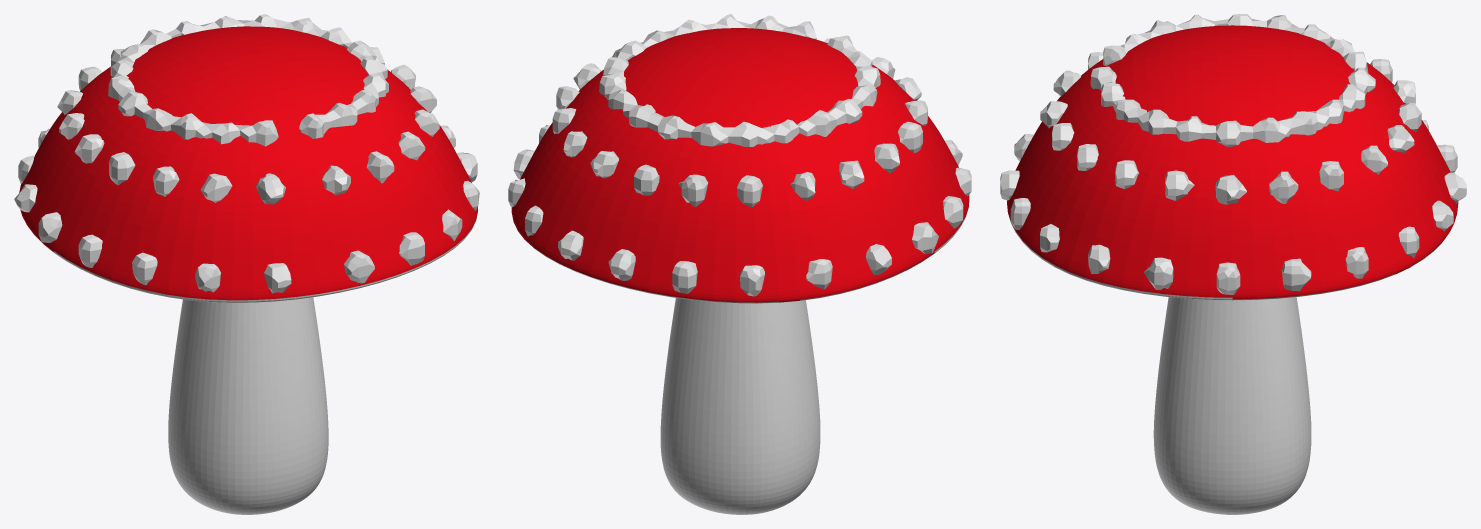
Rendered from gib.fbx.
3 views of the same model, side by side, from view 1: azimuth 30°, elevation 25°; view 2: azimuth 150°, elevation 25°; view 3: azimuth 270°, elevation 25° (orthographic).
Visible parts, largest first — view 1: Cube, Sphere.002; view 2: Cube, Sphere.002; view 3: Cube, Sphere.002.
Part boxes in pixels (x1=…): Cube: x1=19, y1=26, x2=477, y2=514; Sphere.002: x1=14, y1=14, x2=479, y2=293; Cube: x1=511, y1=28, x2=969, y2=514; Sphere.002: x1=508, y1=14, x2=971, y2=296; Cube: x1=1007, y1=25, x2=1458, y2=514; Sphere.002: x1=1000, y1=14, x2=1466, y2=294.
Bounding box in the file's own units: 181 × 192 × 182.
